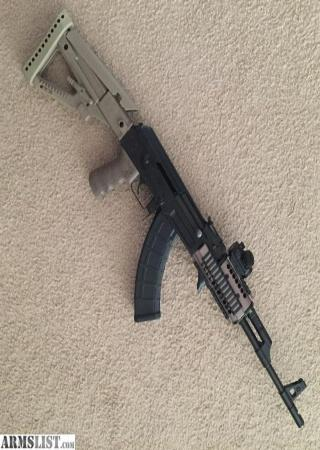weapon: (23, 11, 306, 428)
